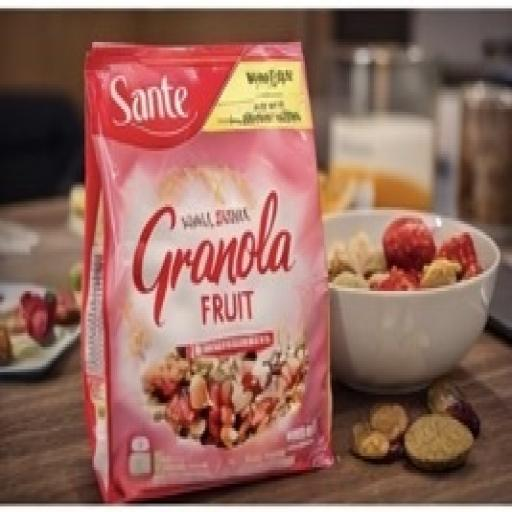granola: (53, 23, 330, 484)
